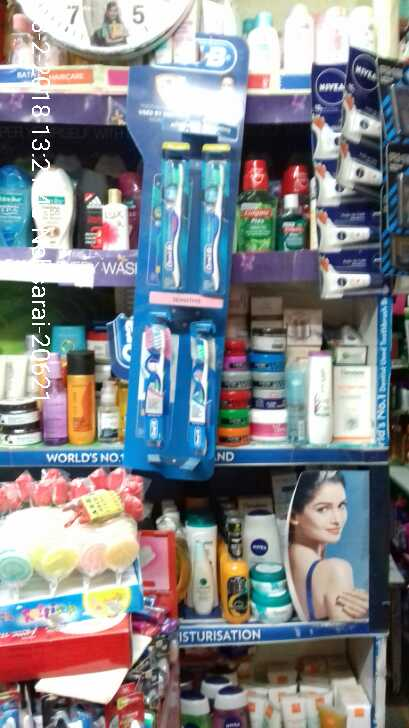oralb: (154, 153, 186, 290), (195, 158, 225, 293), (182, 338, 212, 456), (139, 323, 166, 448)
